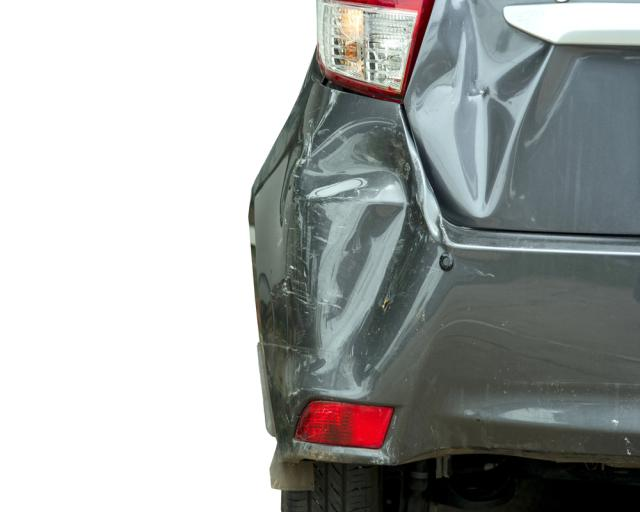dent: (300, 118, 446, 398), (404, 0, 551, 217)
lamp broken: (316, 0, 431, 103)
scratch: (276, 218, 318, 311)
